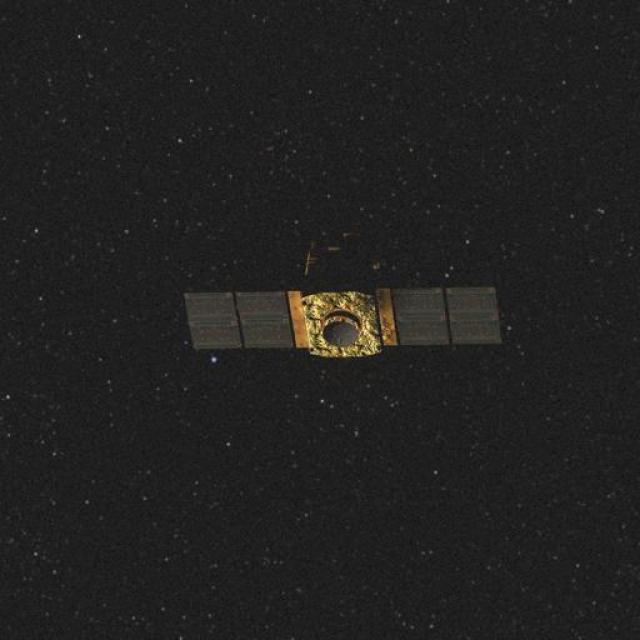soho: (178, 263, 500, 374)
